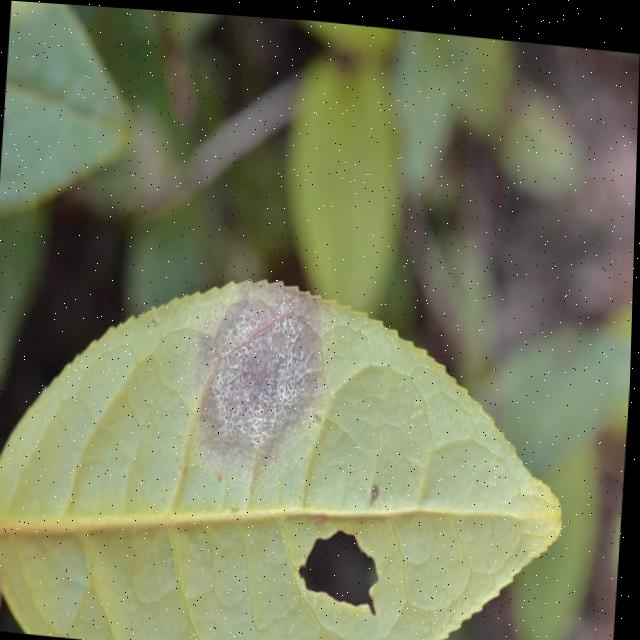Tea exobasidium blight: (195, 269, 330, 471)
